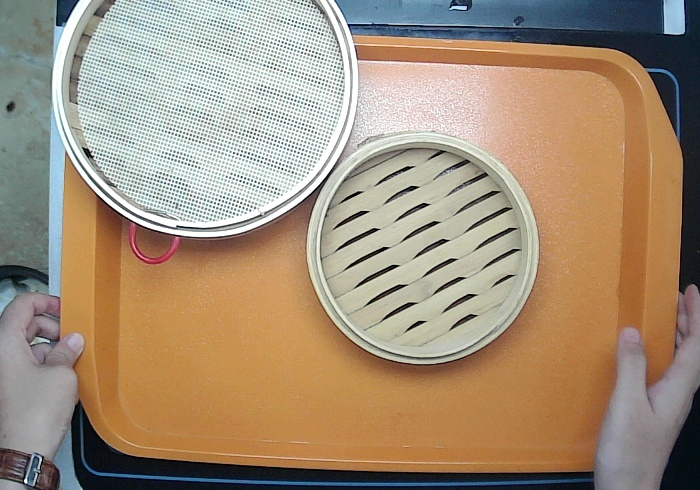ZNLD-Da_Zheng_Long: (49, 1, 360, 263)
ZNLD-Xiao_Zheng_Long: (304, 128, 541, 367)
